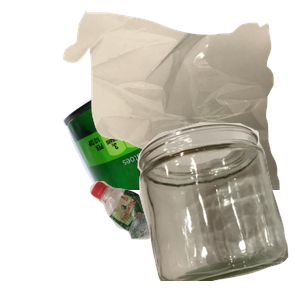glass: (135, 120, 300, 300)
metal: (60, 48, 300, 228)
plastic: (87, 178, 234, 300)
trash: (61, 10, 300, 190)
